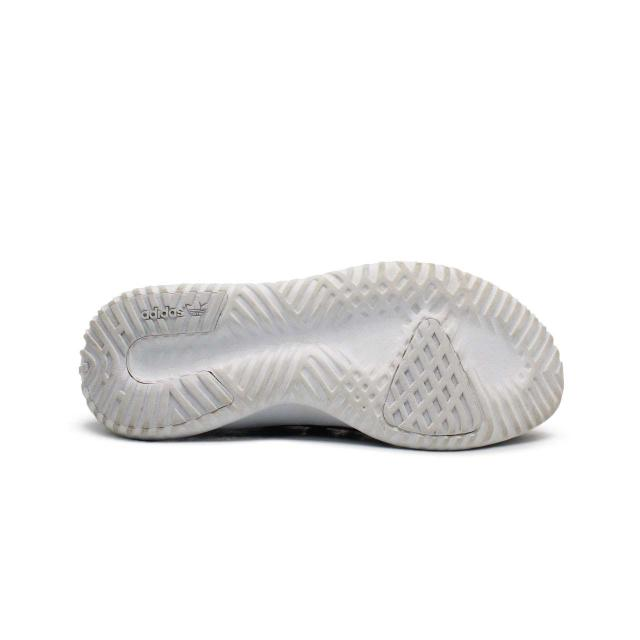outersole: (81, 258, 563, 448)
